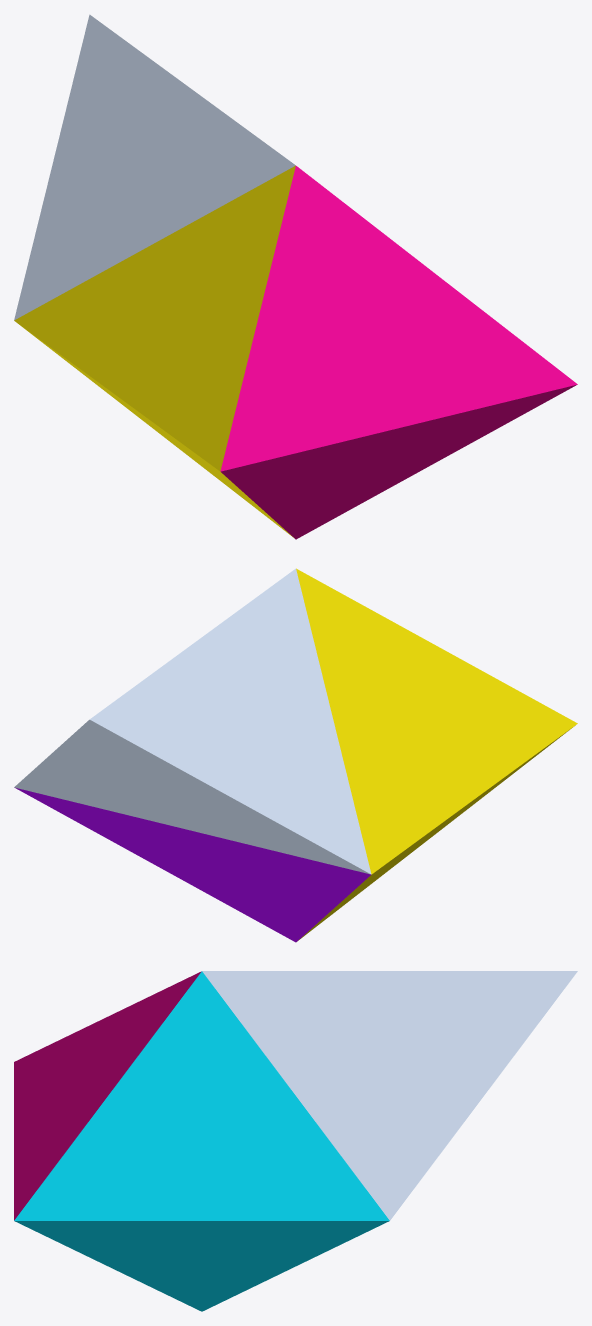
The model's file is TetragonalDisphenoidal_4.glb.
3 views of the same model, one above another, from view 1: azimuth 30°, elevation 25°; view 2: azimuth 150°, elevation 25°; view 3: azimuth 270°, elevation 25° (orthographic). The views are drawn at different scales.
Bounding box in the file's own units: 4 × 4 × 6.
